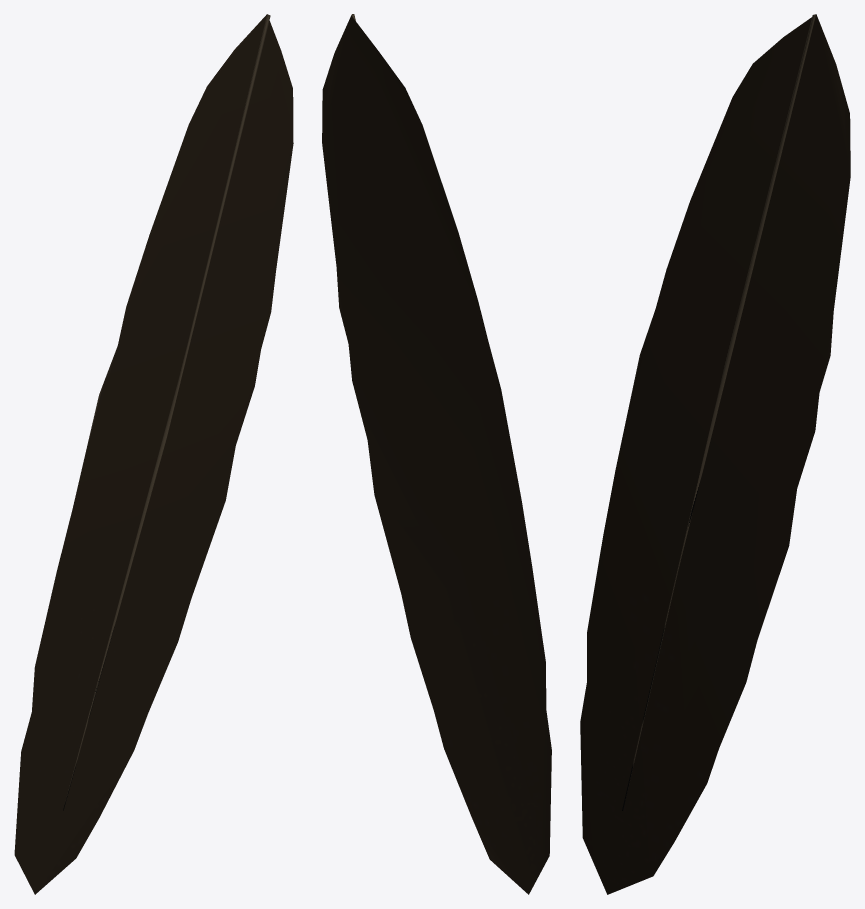
The model's file is bird_rectrix_02.obj.
The picture shows the model from 3 angles, left to right: view 1: azimuth 30°, elevation 25°; view 2: azimuth 150°, elevation 25°; view 3: azimuth 330°, elevation 25°; orthographic projection. The views are drawn at different scales.
Parts seen in each view (by area): view 1: PIECE_BIRD_RECTRIX_RIG_02; view 2: PIECE_BIRD_RECTRIX_RIG_02; view 3: PIECE_BIRD_RECTRIX_RIG_02.
Part boxes in pixels (bbox=[...]): PIECE_BIRD_RECTRIX_RIG_02: bbox=[14, 14, 293, 894]; PIECE_BIRD_RECTRIX_RIG_02: bbox=[322, 14, 551, 894]; PIECE_BIRD_RECTRIX_RIG_02: bbox=[580, 14, 850, 894].
Bounding box in the file's own units: 0.0555 × 0.1742 × 0.0096.
1 material, 1 textured.
